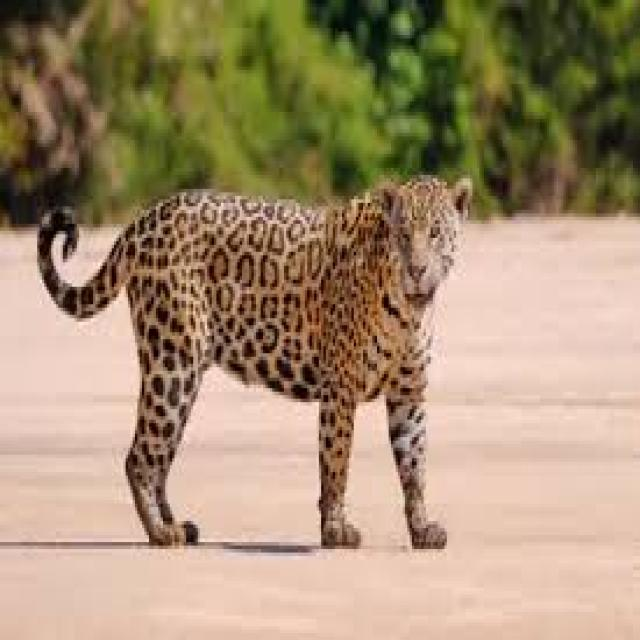Jaguar: (49, 161, 475, 563)
